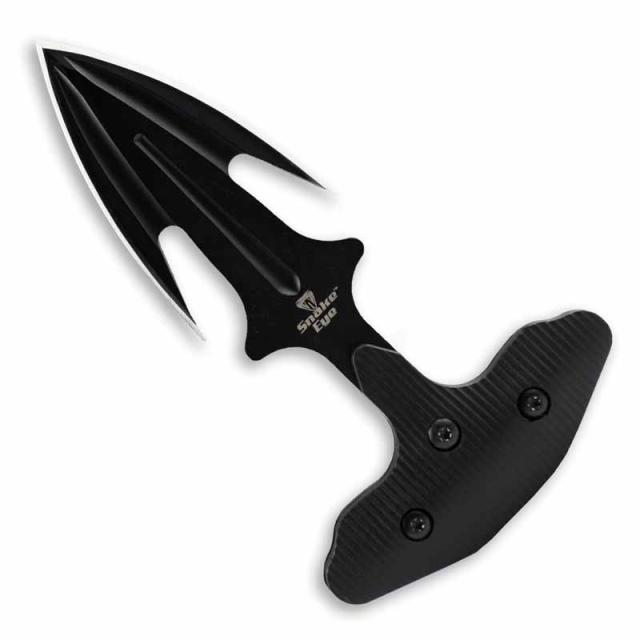Gun: (17, 24, 624, 602)
